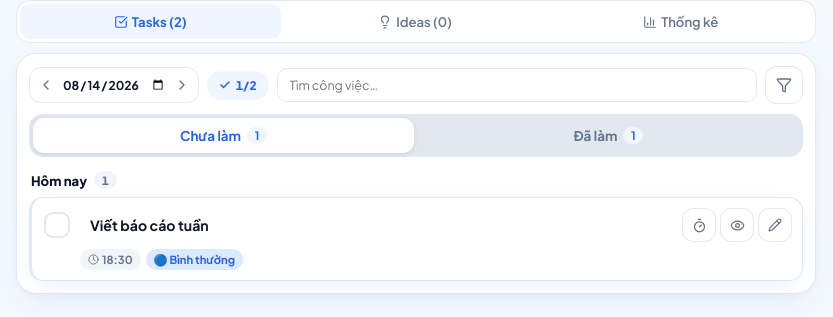
Test: TasksPage layout › splits pending and finished tasks into two filter tabs
expect the text "Viết báo cáo tuần" is shown: met, box [90,216,209,234]
expect the text "Gọi điện cho nha sĩ" is not shown: met
Click the tab "Đã làm 1": (608, 136) [418,118,799,153]
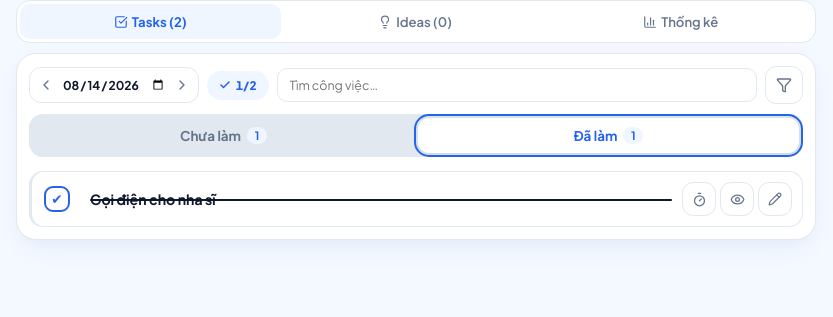
expect the text "Gọi điện cho nha sĩ" is shown: met, box [90,190,216,208]
expect the button "Viết báo cáo tuần" is gone: met
